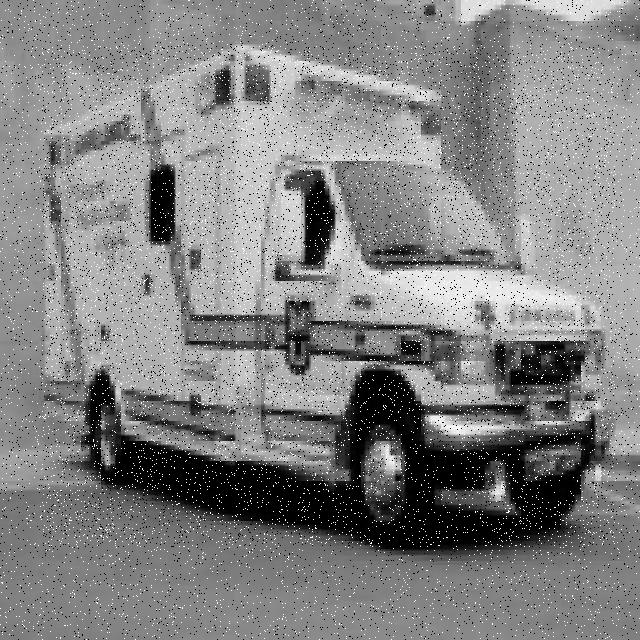Ambulance: (42, 46, 615, 547)
